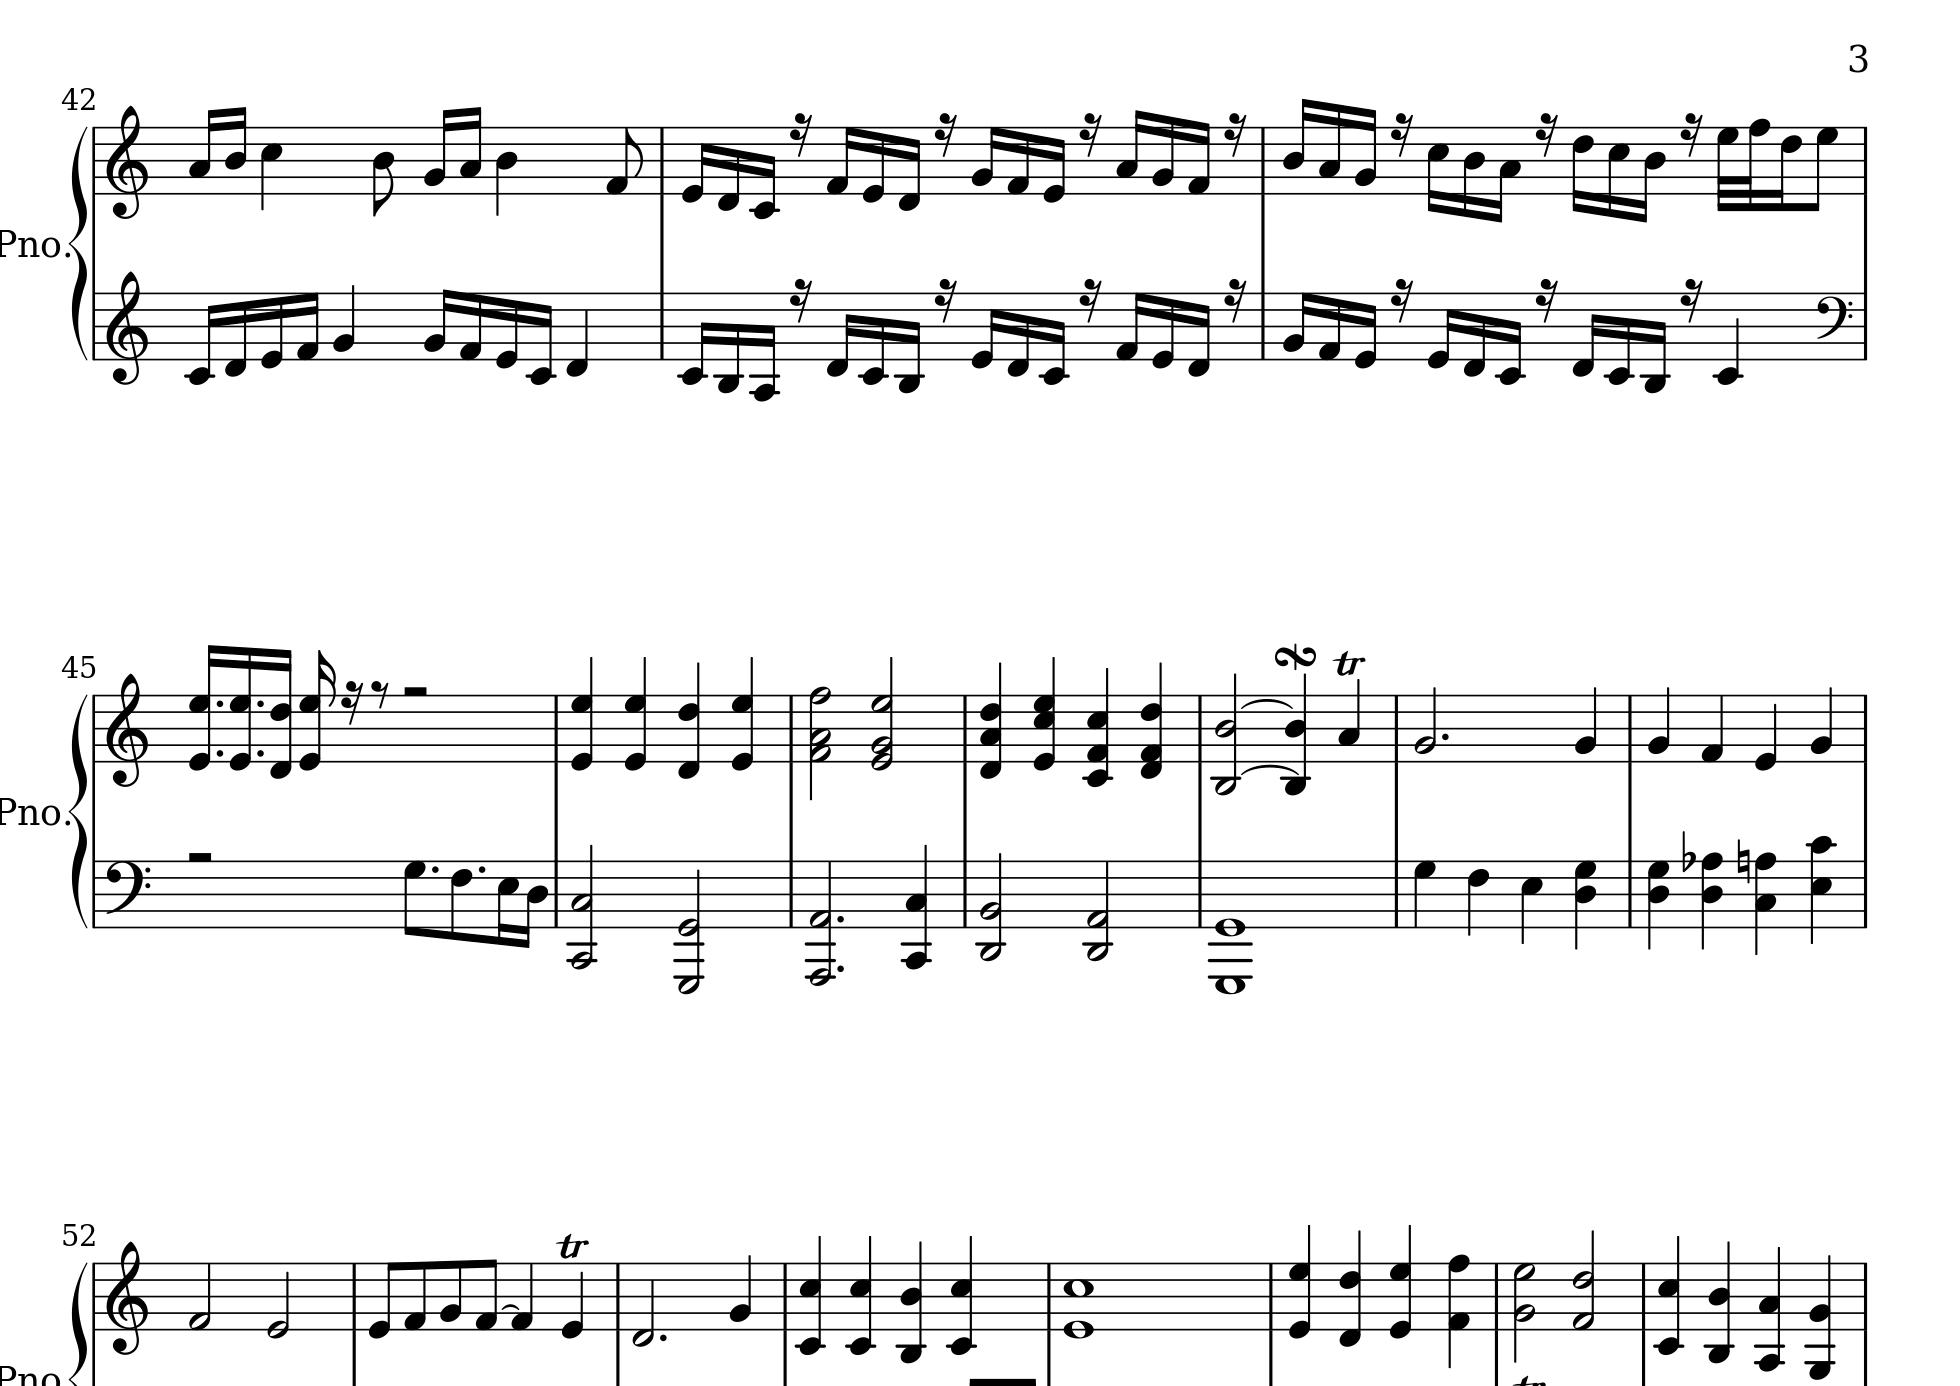16_-1: (1570, 289, 1603, 378), (825, 289, 856, 379), (1005, 289, 1033, 376), (1461, 288, 1488, 379), (895, 123, 922, 211), (1185, 289, 1212, 378), (715, 124, 742, 211), (223, 289, 249, 378)
16_-1_6: (268, 646, 295, 781)
16_-2: (676, 291, 711, 388), (184, 289, 219, 385), (1605, 289, 1635, 387), (748, 124, 778, 220), (1039, 289, 1069, 385), (1495, 289, 1524, 385), (859, 291, 888, 385), (526, 289, 553, 387)
16_-3: (1641, 289, 1671, 394), (895, 289, 924, 394), (715, 291, 744, 394)
16_-4: (748, 288, 780, 403)
16_0: (1425, 289, 1458, 370), (969, 289, 1002, 369), (679, 124, 711, 205), (859, 124, 888, 204), (1041, 124, 1068, 205), (493, 289, 520, 370), (1150, 289, 1177, 370), (1353, 289, 1380, 370), (259, 289, 286, 369)
16_0_7: (297, 649, 337, 772), (187, 643, 222, 769), (226, 645, 253, 772)
16_1: (823, 124, 856, 195), (1114, 289, 1146, 361), (1185, 117, 1212, 196), (1005, 124, 1032, 196), (457, 289, 484, 361), (1317, 289, 1344, 361), (294, 289, 319, 361)
16_2: (421, 106, 453, 195), (421, 286, 453, 361), (1353, 105, 1378, 195), (1281, 289, 1312, 361), (970, 124, 1002, 195), (1152, 112, 1177, 195)
16_3: (1491, 123, 1522, 225), (186, 106, 220, 193), (1114, 106, 1147, 195), (1317, 100, 1344, 195), (457, 105, 481, 195)
16_4: (1281, 96, 1314, 196), (1635, 124, 1668, 223), (520, 859, 549, 949), (1461, 124, 1486, 220), (223, 103, 247, 193)
16_5: (1605, 123, 1632, 220), (1425, 124, 1450, 216), (495, 856, 519, 946)
16_6: (1773, 124, 1803, 211), (1570, 123, 1596, 214)
1_-7_0: (1207, 858, 1257, 999)
1_0_5: (1062, 1260, 1098, 1341)
2: (78, 85, 96, 111), (78, 1221, 96, 1246)
2_-1: (630, 1260, 655, 1347)
2_-3_1: (1081, 859, 1116, 961)
2_-3_2: (973, 852, 1006, 961)
2_-3_4: (1210, 673, 1243, 796)
2_-4_3: (565, 844, 600, 970)
2_-6_1: (802, 858, 837, 987)
2_-7_0: (673, 856, 706, 996)
2_0: (265, 1258, 292, 1341)
2_1: (187, 1260, 214, 1332)
2_1_6: (1570, 1228, 1597, 1333)
2_2: (1413, 685, 1440, 763)
2_2_7: (1513, 1260, 1537, 1362)
2_th: (868, 655, 897, 775), (807, 685, 832, 799)
3: (1848, 40, 1869, 73)
32_7: (1714, 123, 1740, 213)
32_8: (1740, 117, 1771, 213)
4: (60, 652, 78, 679), (61, 85, 78, 112)
4_-1: (564, 291, 591, 378)
4_-1_6: (676, 661, 703, 781), (1338, 1228, 1363, 1348)
4_-2: (1713, 289, 1743, 385)
4_-2_5: (1651, 1234, 1687, 1356), (844, 1234, 877, 1357), (795, 1236, 828, 1356), (946, 1236, 978, 1356)
4_-3_4: (895, 1240, 928, 1363), (1704, 1242, 1737, 1363), (1281, 673, 1311, 796)
4_-4_3: (1753, 1246, 1788, 1372), (900, 844, 933, 969)
4_-5_2: (1806, 1255, 1839, 1381)
4_0: (559, 1260, 586, 1339), (1753, 691, 1779, 772)
4_0_7: (1287, 1222, 1314, 1341), (570, 655, 595, 771), (1389, 1224, 1414, 1339), (622, 655, 648, 769), (730, 657, 754, 772)
4_1: (1698, 691, 1726, 763), (508, 1260, 535, 1333)
4_1_8: (1446, 1252, 1470, 1372)
4_2: (1809, 684, 1836, 763), (727, 1252, 754, 1332), (331, 282, 357, 361), (1573, 684, 1599, 763), (1647, 684, 1672, 763)
4_3: (1338, 676, 1362, 763)
4_3_8: (1753, 850, 1779, 957)
4_4: (493, 124, 519, 217)
4_4_7: (1572, 858, 1599, 954), (1647, 858, 1671, 952)
4_4_8: (1701, 849, 1726, 949)
4_5: (1519, 858, 1545, 946), (258, 124, 283, 211)
4_5_10: (1806, 832, 1839, 943)
4_6: (1465, 858, 1491, 937)
4_7: (1411, 858, 1437, 930)
4_th: (1080, 667, 1119, 790), (1032, 657, 1060, 771), (1140, 661, 1167, 778), (979, 661, 1005, 778)
5: (79, 651, 97, 679), (61, 1219, 78, 1248)
8_0: (367, 1258, 399, 1339)
8_1: (604, 124, 643, 195), (472, 1255, 499, 1332), (403, 1258, 427, 1332)
8_2: (438, 1258, 463, 1330)
8_4: (370, 124, 396, 217)
8_6: (448, 858, 472, 943)
8_7: (1806, 124, 1839, 213), (402, 858, 427, 939)
Brace: (69, 688, 90, 930), (69, 121, 90, 361)
Fclef: (100, 858, 151, 925), (1815, 289, 1854, 361)
Flat: (1680, 828, 1696, 874)
Gclef: (103, 268, 150, 387), (103, 1237, 150, 1356), (103, 103, 150, 220), (103, 670, 150, 787)
Natural: (1735, 835, 1752, 885)
Pno: (1, 793, 60, 829), (1, 226, 60, 261), (1, 1363, 63, 1384)
Rests16: (1389, 111, 1416, 159), (787, 276, 814, 324), (1389, 276, 1416, 324), (787, 111, 814, 157), (933, 111, 958, 159), (1224, 109, 1249, 157), (1534, 111, 1560, 159), (933, 276, 958, 324), (1078, 276, 1104, 324), (1534, 276, 1560, 324), (1078, 111, 1104, 157), (1222, 277, 1248, 324), (1680, 276, 1704, 324), (340, 679, 364, 727), (1680, 111, 1704, 157)
Rests2: (183, 846, 217, 867), (400, 681, 432, 700)
Rests8: (370, 678, 390, 709)
Single_barline: (1389, 694, 1407, 763), (1635, 1261, 1653, 1330), (1191, 694, 1209, 762), (1389, 859, 1407, 927), (1191, 859, 1209, 927), (1855, 859, 1873, 927), (775, 1261, 793, 1329), (547, 694, 565, 760), (1623, 859, 1641, 925), (652, 127, 670, 192), (957, 859, 973, 928), (609, 1261, 625, 1330), (1857, 126, 1873, 193), (1254, 291, 1270, 358), (783, 694, 799, 762), (1857, 694, 1873, 762), (783, 859, 799, 927), (345, 1261, 361, 1329), (1489, 1261, 1506, 1329), (1041, 1263, 1057, 1330), (1263, 1263, 1279, 1330), (1857, 292, 1873, 358), (957, 694, 973, 760), (549, 859, 564, 928), (1858, 1261, 1873, 1330), (1623, 694, 1638, 762), (1255, 127, 1270, 193), (654, 292, 669, 358), (88, 694, 102, 762), (88, 1261, 102, 1329), (88, 292, 102, 358), (88, 126, 100, 193), (88, 861, 100, 925)
Slur: (1240, 696, 1296, 711), (1240, 762, 1299, 775), (499, 1303, 520, 1309)
Trill: (555, 1228, 589, 1261), (1332, 648, 1368, 679)
Turn_Slash: (1273, 643, 1315, 670)
dot: (1438, 729, 1452, 742), (214, 745, 226, 757), (253, 745, 265, 757), (429, 862, 441, 874), (475, 862, 487, 874), (657, 1330, 669, 1342), (214, 697, 226, 708), (835, 912, 846, 924), (834, 963, 846, 973)
